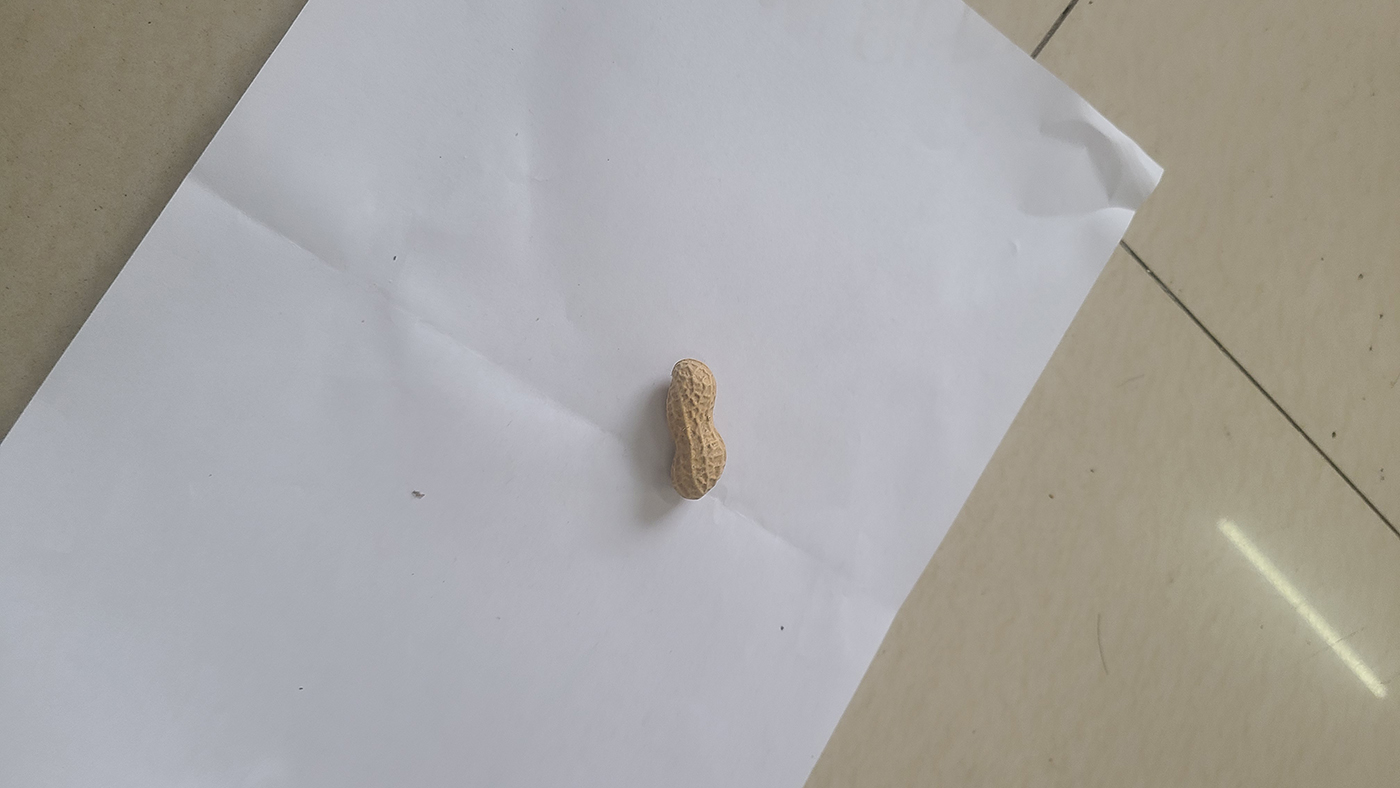h: (665, 357, 727, 500)
